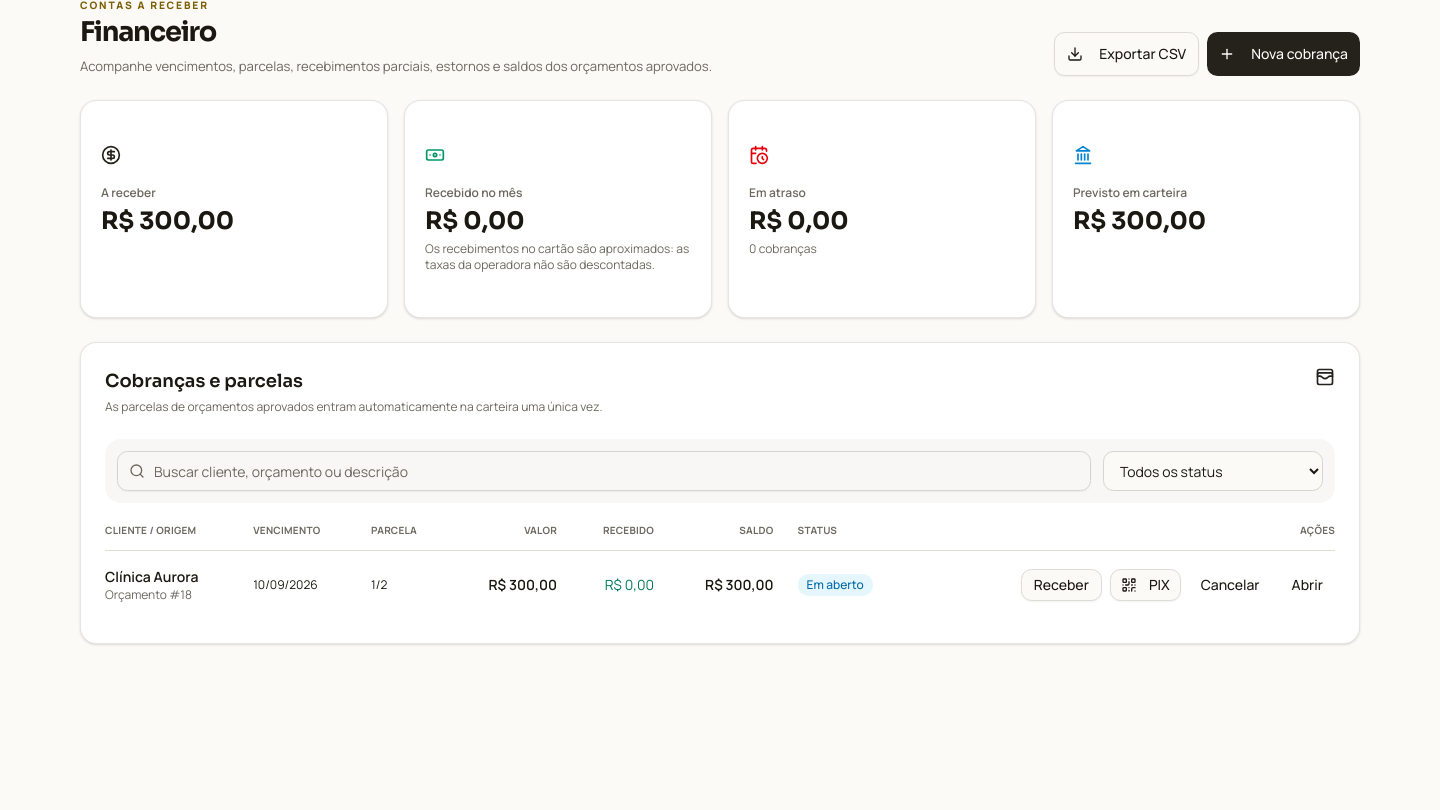
Test case: FinancePage › lista a cobrança e abre o recebimento com o saldo preenchido
Expected: the text "Clínica Aurora" is shown, x1=105 y1=566 x2=198 y2=586
Expected: the 1st text "R$ 300,00" is shown, x1=101 y1=206 x2=234 y2=236
Click the button "Receber". click: point(1061, 584)
box: x1=1021 y1=568 x2=1102 y2=600
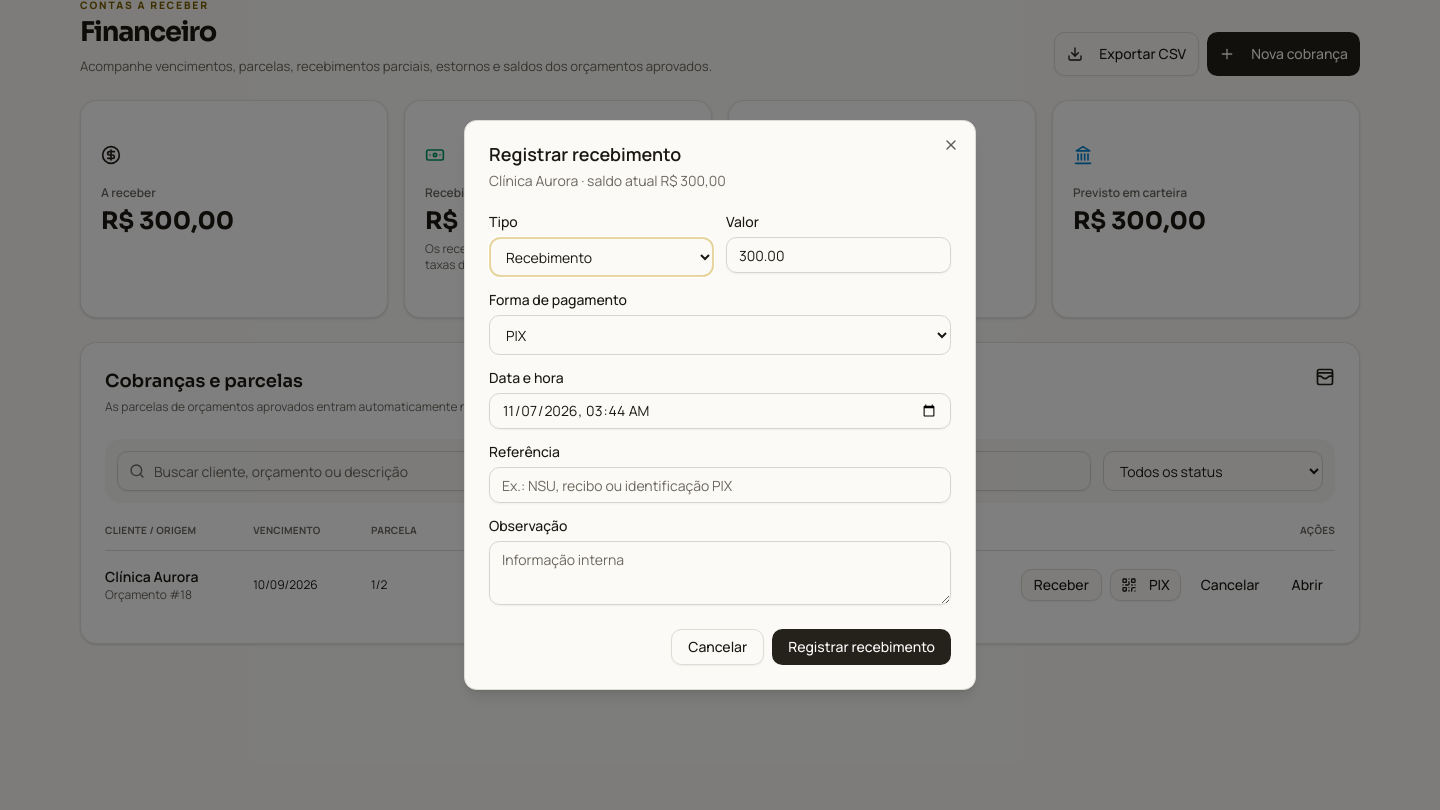
Result: the heading "Registrar recebimento" is shown at x1=489 y1=142 x2=681 y2=166
Result: the number field showing "300.00" is shown at x1=726 y1=237 x2=951 y2=273
